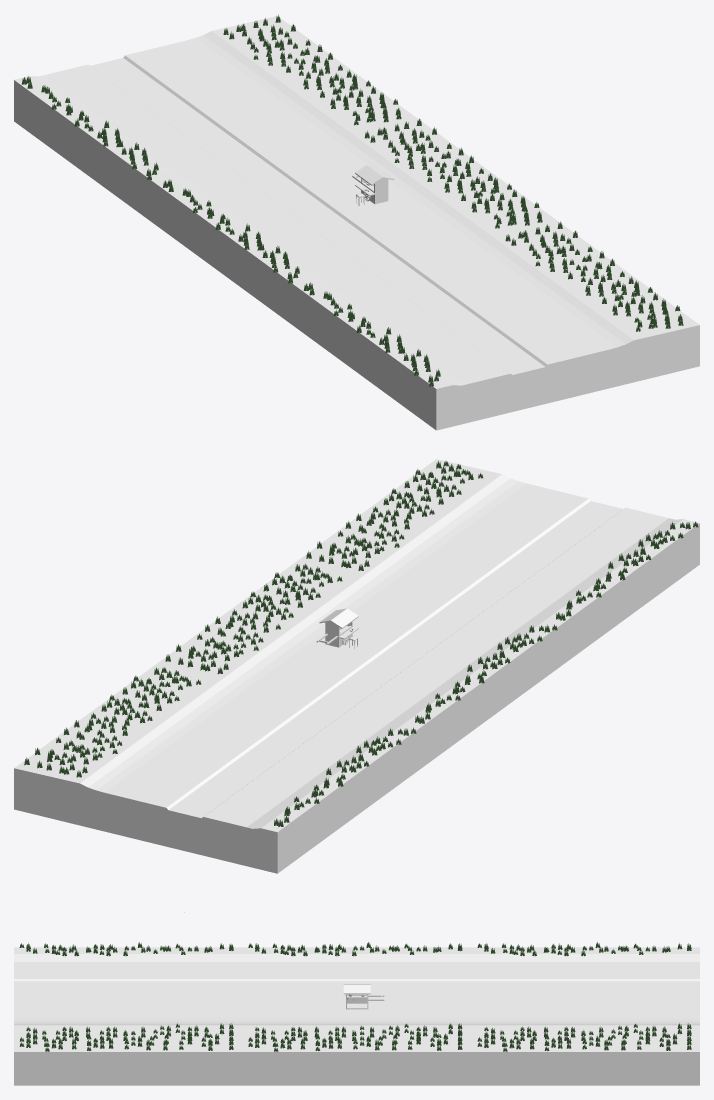
3 renders of one model, top to bottom at view 1: azimuth 30°, elevation 25°; view 2: azimuth 150°, elevation 25°; view 3: azimuth 270°, elevation 25°, orthographic. The views are drawn at different scales.
Parts seen in each view (by area): view 1: Enviroment001, Enviroment002, Enviroment; view 2: Enviroment002, Enviroment001, Enviroment; view 3: Enviroment001, Enviroment002, Enviroment, Cube002_2, Cube002.
Part boxes in pixels (left/top/right/bottom): Enviroment001: left=295, top=222, right=699, bottom=430; Enviroment002: left=14, top=16, right=417, bottom=223; Enviroment: left=154, top=119, right=558, bottom=327; Enviroment002: left=14, top=665, right=418, bottom=912; Enviroment001: left=296, top=459, right=699, bottom=667; Enviroment: left=155, top=562, right=558, bottom=770; Enviroment001: left=14, top=947, right=242, bottom=1085; Enviroment002: left=471, top=947, right=699, bottom=1085; Enviroment: left=242, top=947, right=471, bottom=1085; Cube002_2: left=346, top=994, right=368, bottom=1009; Cube002: left=343, top=984, right=370, bottom=994.
Size of the model in its own units: 14.37 by 7.01 by 39.42.
